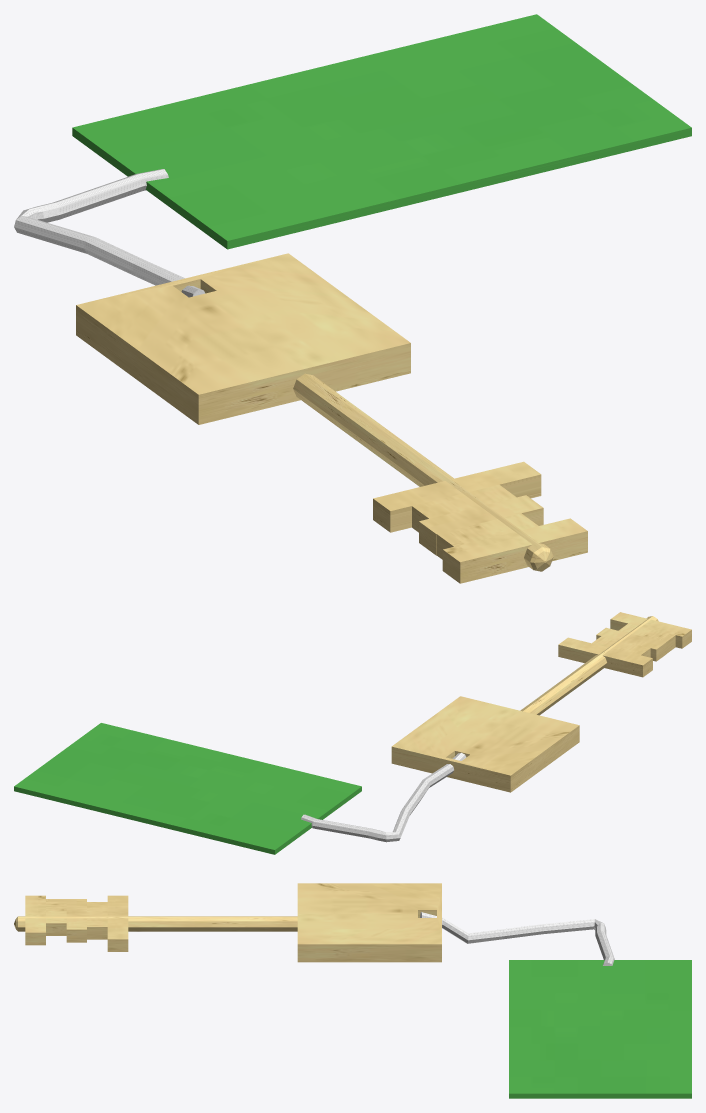
The model's file is Square_keys.fbx.
3 views of the same model, one above another, from view 1: azimuth 30°, elevation 25°; view 2: azimuth 150°, elevation 25°; view 3: azimuth 270°, elevation 25° (orthographic). The views are drawn at different scales.
Parts seen in each view (by area): view 1: Cube.001, Cube, Cylinder; view 2: Cube.001, Cube, Cylinder; view 3: Cube.001, Cube, Cylinder.
Boxes of the visible parts, x1,y1,x2,y2 form: Cube.001: [72, 14, 691, 249]; Cube: [76, 253, 587, 583]; Cylinder: [14, 169, 205, 297]; Cube.001: [14, 723, 361, 854]; Cube: [391, 612, 691, 792]; Cylinder: [301, 752, 466, 842]; Cube.001: [509, 960, 691, 1098]; Cube: [14, 883, 441, 962]; Cylinder: [420, 912, 614, 965].
Size of the model in its own units: 19.59 by 1.22 by 29.01.
3 materials, 3 textured.
